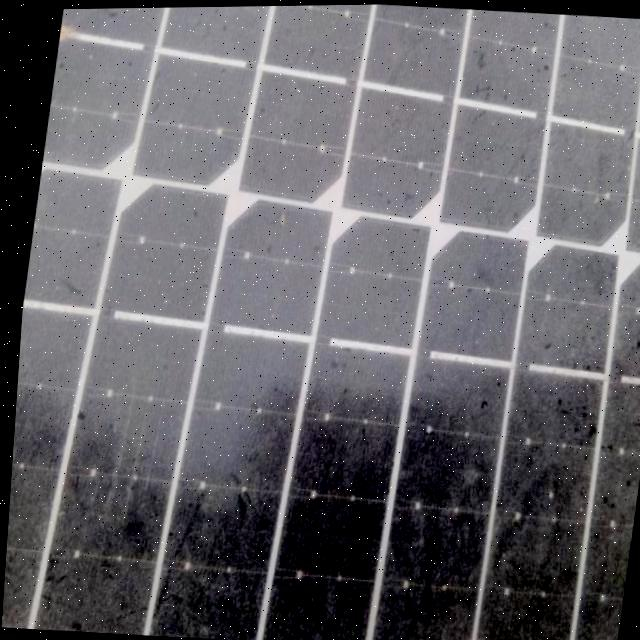Surface Contaminant: (1, 5, 640, 640)
